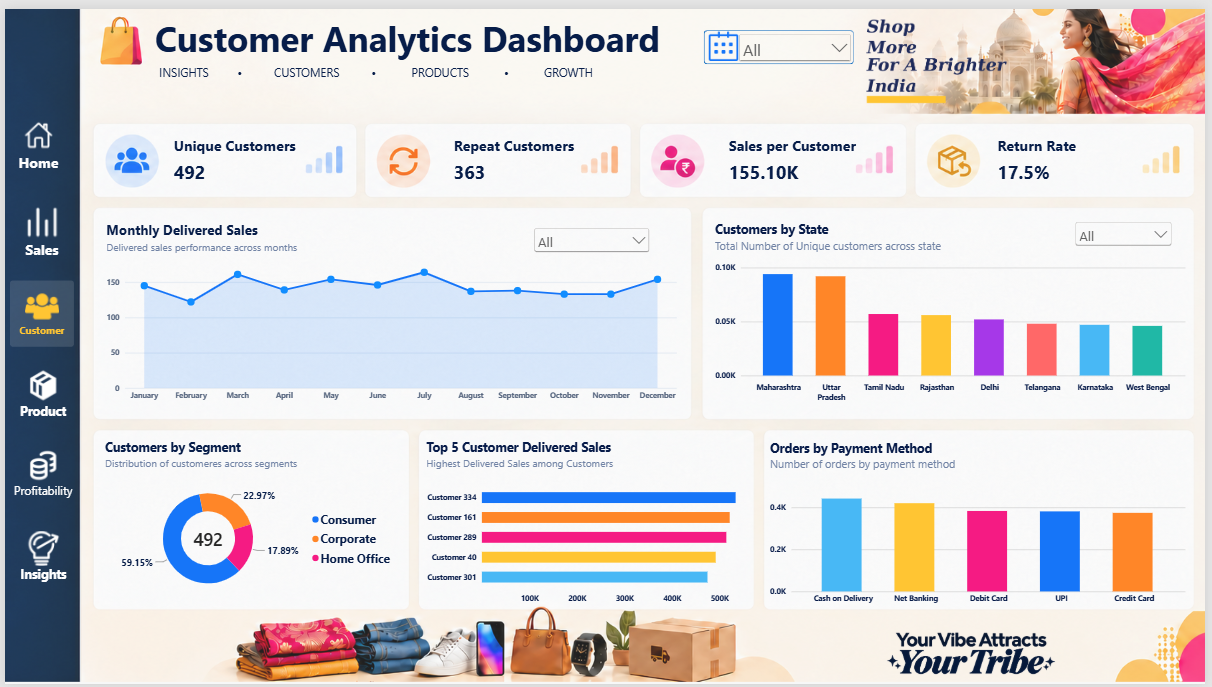

This screenshot's page, from the dashboard's own definition file:
{"tool":"powerbi","page":{"name":"Customers","canvas":[1920,1080],"ordinal":2},"visuals":[{"type":"actionButton","box":[8.9,164.4,91.1,108.9],"z":0},{"type":"actionButton","box":[8.9,304.4,102.2,106.7],"z":1000},{"type":"actionButton","box":[8.9,562.2,102.2,108.9],"z":2000},{"type":"actionButton","box":[0,685,120,115],"z":3000},{"type":"actionButton","box":[8.8,821.2,102.5,111.2],"z":4000},{"type":"actionButton","box":[8.9,433.3,102.2,106.7],"z":5000},{"type":"textbox","box":[240,8,878,114],"z":6000},{"type":"cardVisual","fields":{"Data":["2_Customer_Analytics.Unique Customers"]},"box":[253.4,188.2,231.6,106.8],"z":7000},{"type":"cardVisual","fields":{"Data":["2_Customer_Analytics.Repeat Customers"]},"box":[702.1,188.2,237.1,106.8],"z":8000},{"type":"cardVisual","fields":{"Data":["2_Customer_Analytics.Sales per Customer"]},"box":[1141.9,188.2,244.3,106.8],"z":9000},{"type":"cardVisual","fields":{"Data":["2_Customer_Analytics.Return Rate"]},"box":[1572.6,188.2,168.3,106.8],"z":10000},{"type":"areaChart","title":"Monthly Delivered Sales","fields":{"Category":["2_Customer_Analytics.Order_Date.Variation.Date Hierarchy.Year","2_Customer_Analytics.Order_Date.Variation.Date Hierarchy.Month"],"Y":["2_Customer_Analytics.Unique Customers"]},"box":[145.4,323.5,945.9,323.5],"z":11000},{"type":"slicer","fields":{"Values":["2_Customer_Analytics.Order_Date.Variation.Date Hierarchy.Year"]},"box":[841,346.4,194.1,50.1],"z":12000},{"type":"donutChart","title":"Customers by Segment","fields":{"Category":["2_Customer_Analytics.Customer_Segment"],"Y":["2_Customer_Analytics.Unique Customers"]},"box":[144.8,671.4,497.7,285.9],"z":13000},{"type":"clusteredBarChart","title":"Top 5 Customer Delivered Sales","fields":{"Category":["2_Customer_Analytics.Customer_Name"],"Y":["2_Customer_Analytics.Customer Delivered Sales"]},"box":[658,672,542,300],"z":14000},{"type":"clusteredColumnChart","title":"Customers by State","fields":{"Category":["2_Customer_Analytics.State"],"Y":["2_Customer_Analytics.Unique Customers"]},"box":[1120,324.4,784.4,324.4],"z":15000},{"type":"slicer","fields":{"Values":["Top States.Show"]},"box":[1708.9,335.6,163.1,45.1],"z":16000},{"type":"clusteredColumnChart","title":"Orders by Payment Method","fields":{"Category":["2_Customer_Analytics.Payment_Method"],"Y":["2_Customer_Analytics.Customer Orders"]},"box":[1207.8,673.3,696.7,298.9],"z":17000},{"type":"image","box":[1377.8,982.2,331.1,97.8],"z":18000},{"type":"image","box":[1377.8,8.9,224.4,137.8],"z":19000},{"type":"image","box":[1330,76,224.4,137.8],"z":20000},{"type":"shape","box":[1118.6,34.3,240,54.3],"z":20500},{"type":"slicer","fields":{"Values":["1_Sales_Analytics.Order_Date.Variation.Date Hierarchy.Year"]},"box":[1170,35.7,188.6,54.3],"z":21000},{"type":"image","box":[1118.6,35.7,62.9,47.1],"z":23000}]}

Visuals, with their boxes on the page's 1920x1080 design canvas (x1, y1, x2, y2). These are canvas units, not pixel positions in the 1212x687 screenshot, which may show the page scaled, cropped or inside an application window:
actionButton: <box>9,164,100,273</box>
actionButton: <box>9,304,111,411</box>
actionButton: <box>9,562,111,671</box>
actionButton: <box>0,685,120,800</box>
actionButton: <box>9,821,111,932</box>
actionButton: <box>9,433,111,540</box>
textbox: <box>240,8,1118,122</box>
cardVisual - 2_Customer_Analytics.Unique Customers: <box>253,188,485,295</box>
cardVisual - 2_Customer_Analytics.Repeat Customers: <box>702,188,939,295</box>
cardVisual - 2_Customer_Analytics.Sales per Customer: <box>1142,188,1386,295</box>
cardVisual - 2_Customer_Analytics.Return Rate: <box>1573,188,1741,295</box>
"Monthly Delivered Sales" areaChart: <box>145,324,1091,647</box>
slicer - 2_Customer_Analytics.Order_Date.Variation.Date Hierarchy.Year: <box>841,346,1035,396</box>
"Customers by Segment" donutChart: <box>145,671,642,957</box>
"Top 5 Customer Delivered Sales" clusteredBarChart: <box>658,672,1200,972</box>
"Customers by State" clusteredColumnChart: <box>1120,324,1904,649</box>
slicer - Top States.Show: <box>1709,336,1872,381</box>
"Orders by Payment Method" clusteredColumnChart: <box>1208,673,1904,972</box>
image: <box>1378,982,1709,1080</box>
image: <box>1378,9,1602,147</box>
image: <box>1330,76,1554,214</box>
shape: <box>1119,34,1359,89</box>
slicer - 1_Sales_Analytics.Order_Date.Variation.Date Hierarchy.Year: <box>1170,36,1359,90</box>
image: <box>1119,36,1182,83</box>
